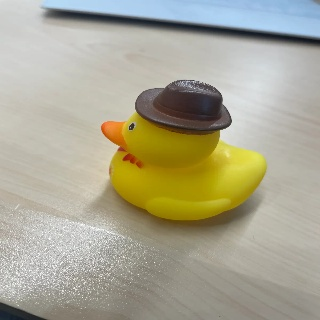duck_specialty: (99, 71, 268, 220)
